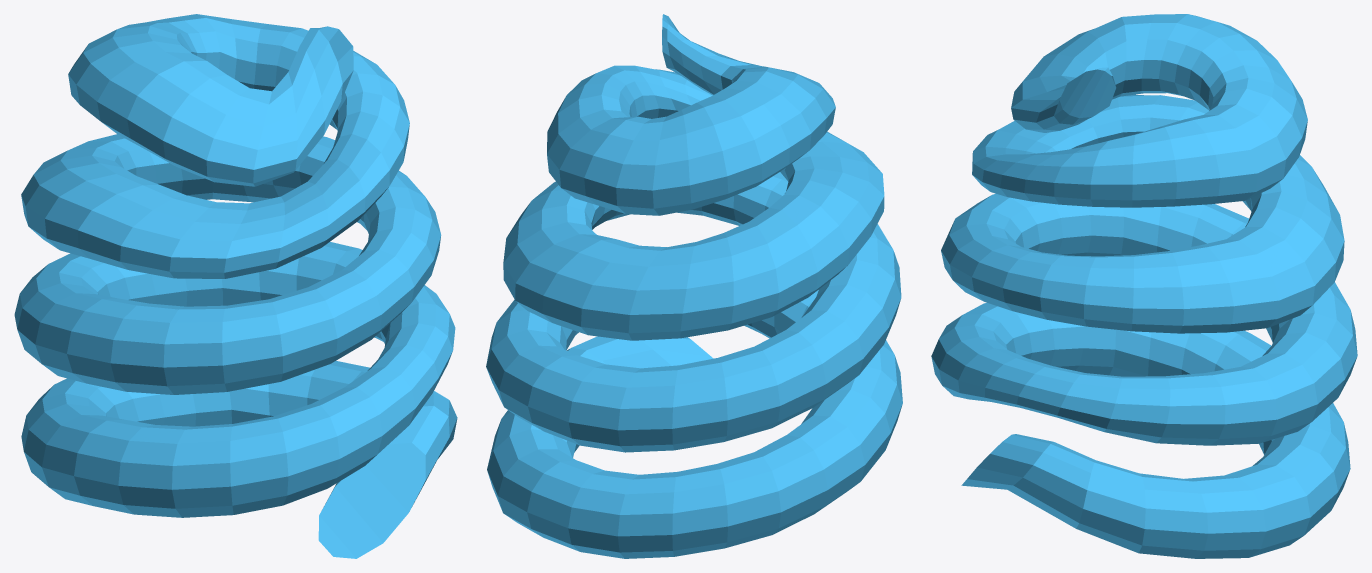
File: icoplant.glb
The picture shows the model from 3 angles, left to right: view 1: azimuth 30°, elevation 25°; view 2: azimuth 150°, elevation 25°; view 3: azimuth 270°, elevation 25°; orthographic projection. The views are drawn at different scales.
Visible parts, largest first — view 1: Icoplant; view 2: Icoplant; view 3: Icoplant.
Boxes of the visible parts, x1=… form: Icoplant: x1=14, y1=14, x2=457, y2=558; Icoplant: x1=486, y1=14, x2=902, y2=558; Icoplant: x1=931, y1=14, x2=1357, y2=558.
Size of the model in its own units: 0.7259 by 0.8822 by 0.7474.
